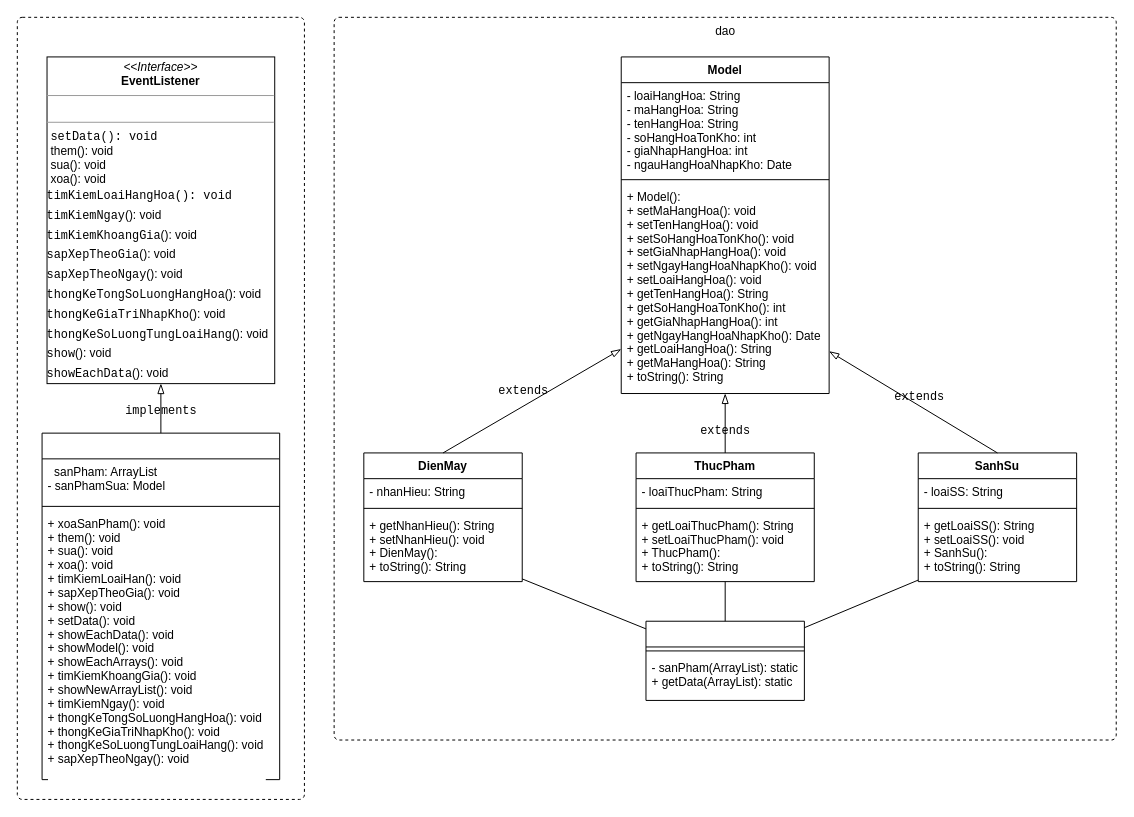
Image size: 1134x817. Some labels were removed from this diagram. The box of each missing label's shape, as (x1, y1, x2, y2) in pixels:
controller: (16, 16, 304, 799)
Database: (645, 620, 804, 700)
HandleEvent: (41, 432, 280, 780)
